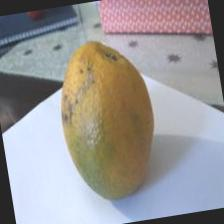Orange Rotten: (43, 22, 174, 213)
